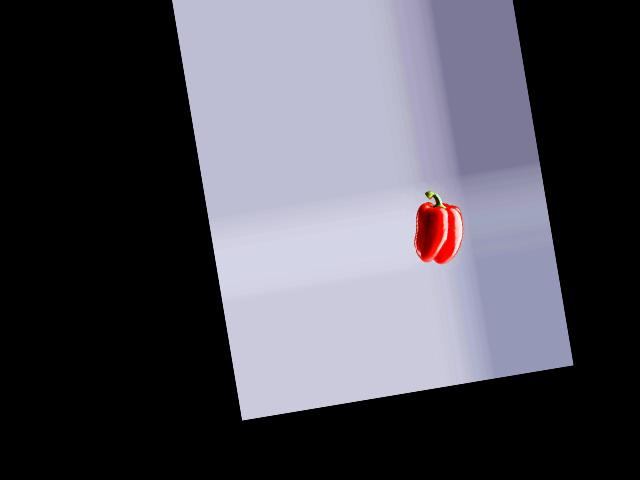bell_pepper: (405, 185, 471, 265)
